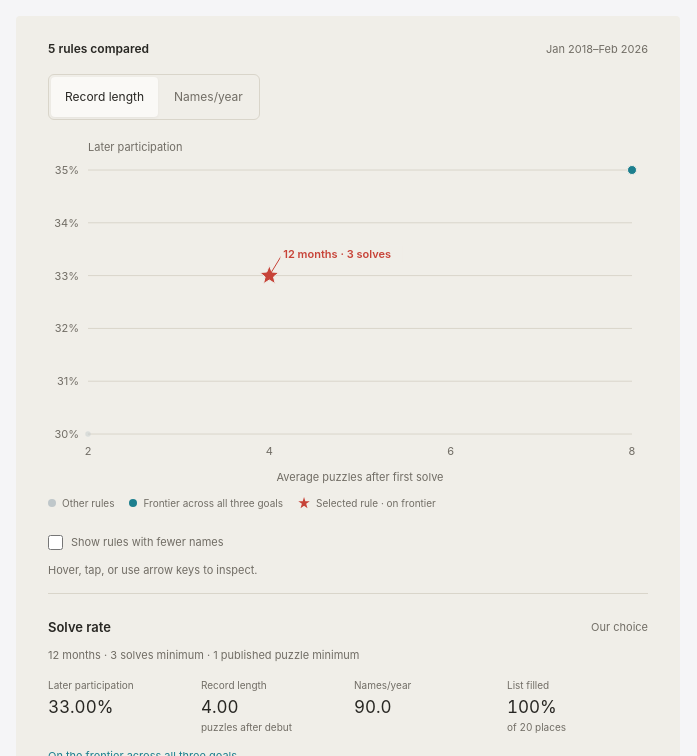
tap selects the nearest point and hiding a selected sparse rule returns to our choice
Click the slider at (348, 313), box [48, 138, 648, 488]
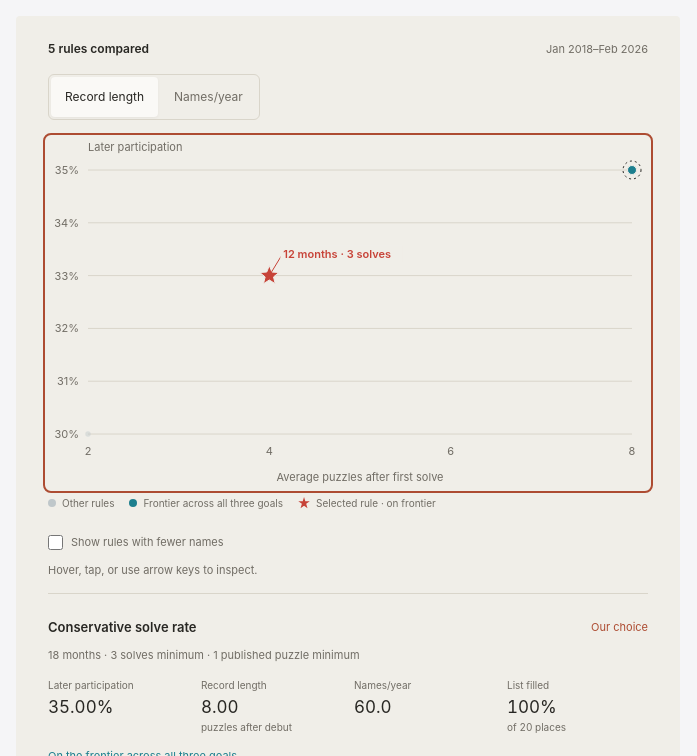
Expected: the element named "Selected rule details" shows "Conservative solve rate", [48, 618, 196, 634]
Click the checkbox labelled "Show rules with fewer names" at (56, 542), box [48, 534, 63, 550]
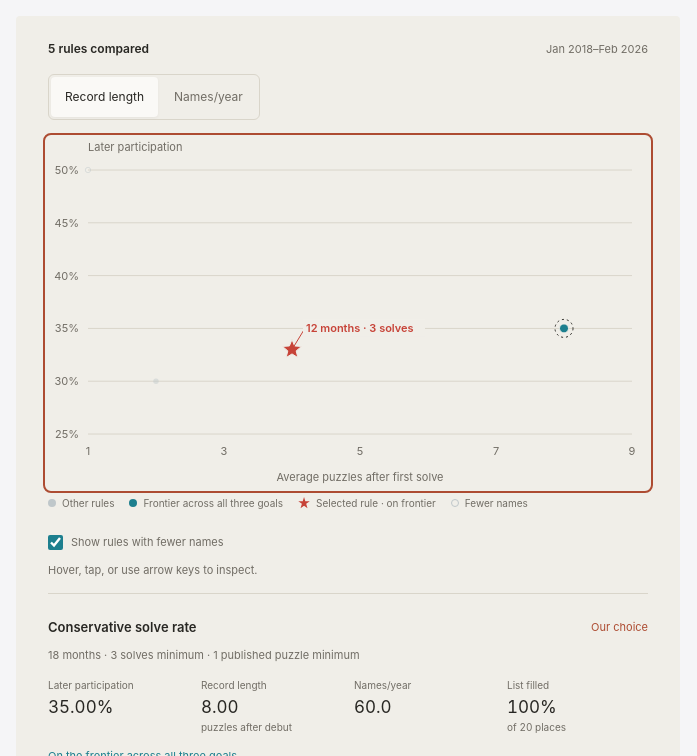
Press Home in the slider, box [48, 138, 648, 488]
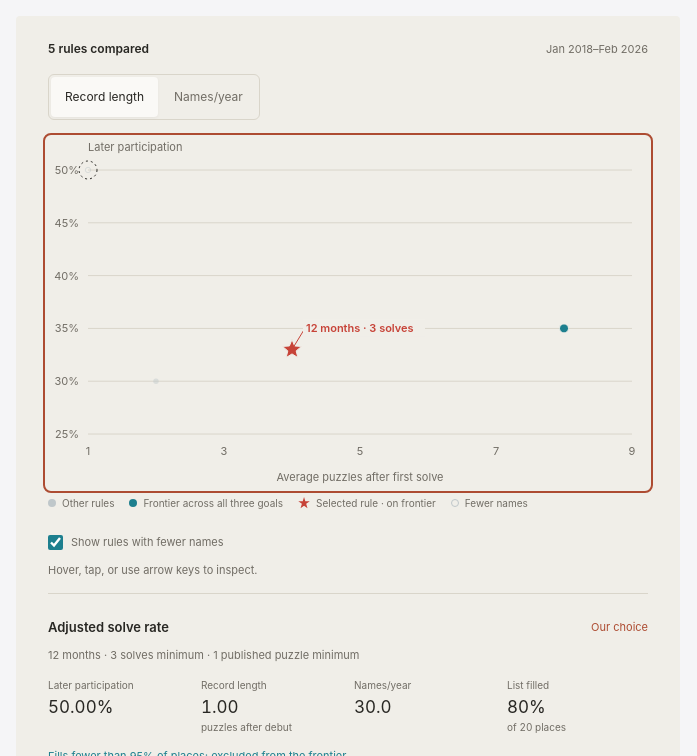
Click the checkbox labelled "Show rules with fewer names" at (56, 542), box [48, 534, 63, 550]
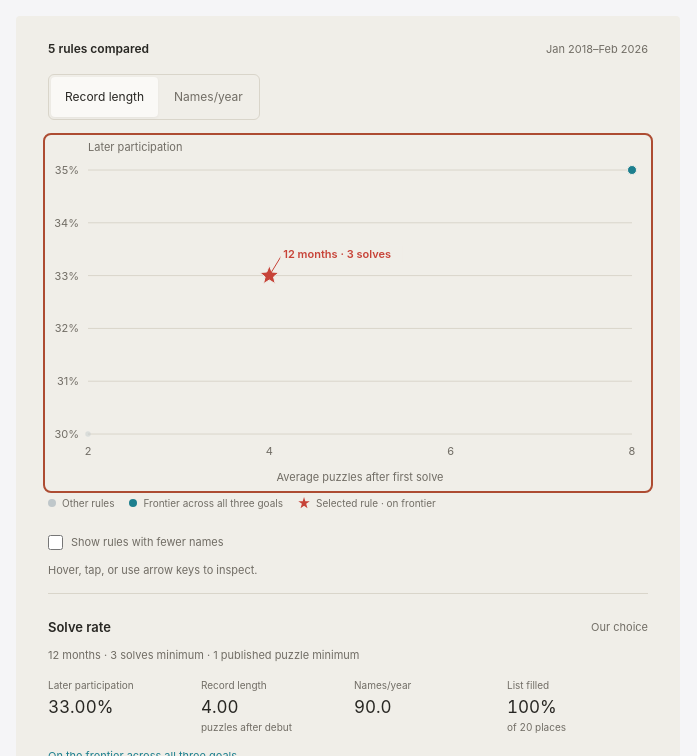
Expected: the element named "Selected rule details" shows "12 months", [48, 592, 648, 755]
Expected: the element named "Selected rule details" no longer shows "Fills fewer", [48, 592, 648, 755]
